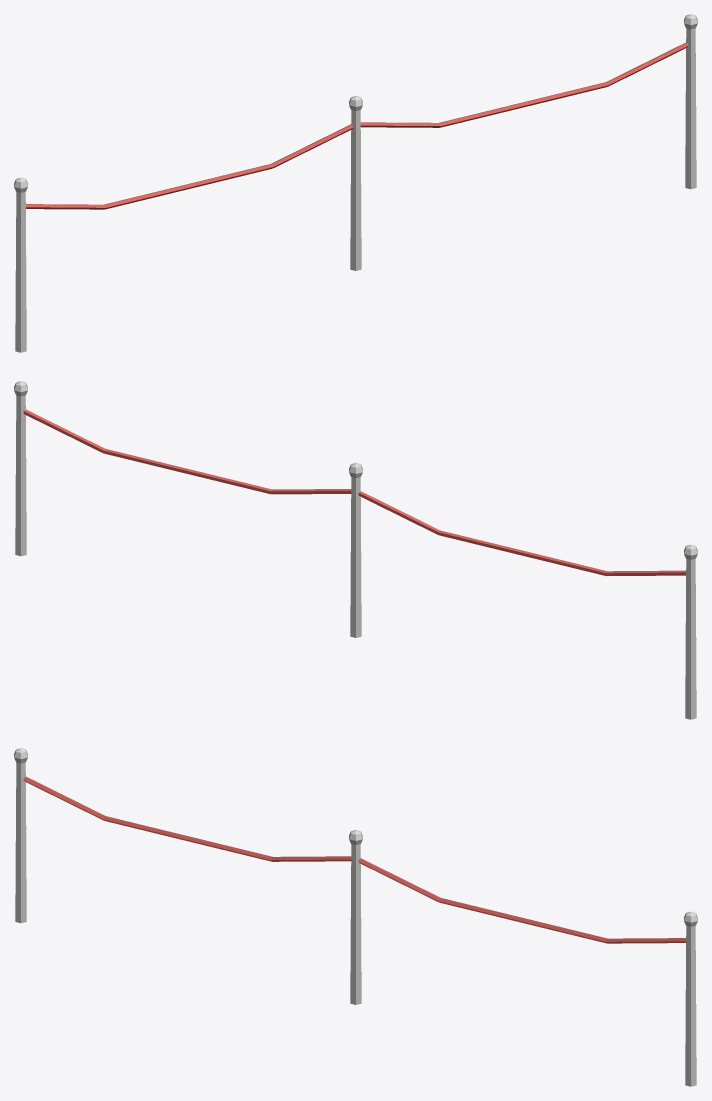
The model's file is golf-course-and-clubhouse-spectator-rope-and-stakes-85f95ca1__33505.glb.
The picture shows the model from 3 angles, top to bottom: view 1: azimuth 30°, elevation 25°; view 2: azimuth 150°, elevation 25°; view 3: azimuth 330°, elevation 25°; orthographic projection.
Parts seen in each view (by area): view 1: spectator-rope-and-stakes; view 2: spectator-rope-and-stakes; view 3: spectator-rope-and-stakes.
Part boxes in pixels (x1,y1,x2,y2): spectator-rope-and-stakes: (14,14,697,352); spectator-rope-and-stakes: (14,381,697,719); spectator-rope-and-stakes: (14,748,697,1086).
Bounding box in the file's own units: 4.08 × 0.9821 × 0.0728.
